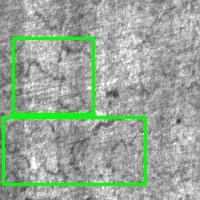crazing: (3, 117, 145, 184), (13, 38, 93, 114)
